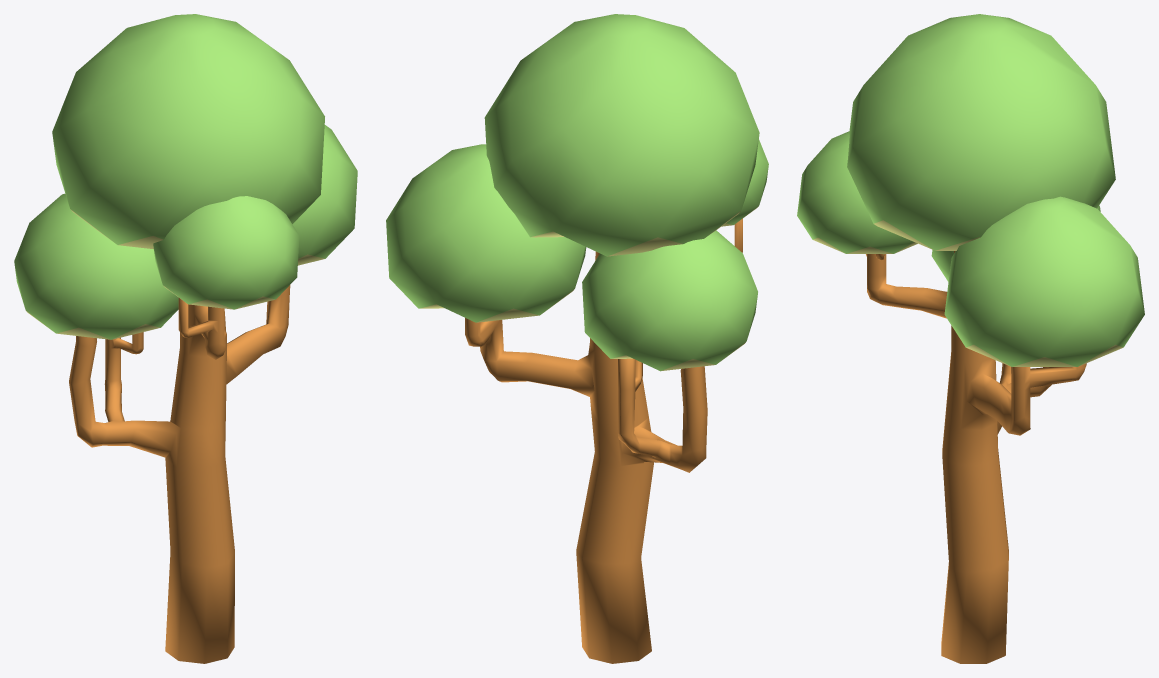
File: V1.tree01.fbx
The picture shows the model from 3 angles, left to right: view 1: azimuth 30°, elevation 25°; view 2: azimuth 150°, elevation 25°; view 3: azimuth 270°, elevation 25°; orthographic projection.
Parts seen in each view (by area): view 1: Sphere; view 2: Sphere; view 3: Sphere.
Boxes of the visible parts, <box> form: Sphere: <box>14,14,357,663</box>; Sphere: <box>386,14,768,663</box>; Sphere: <box>797,14,1144,663</box>.
Size of the model in its own units: 1180 by 2127 by 1077.
